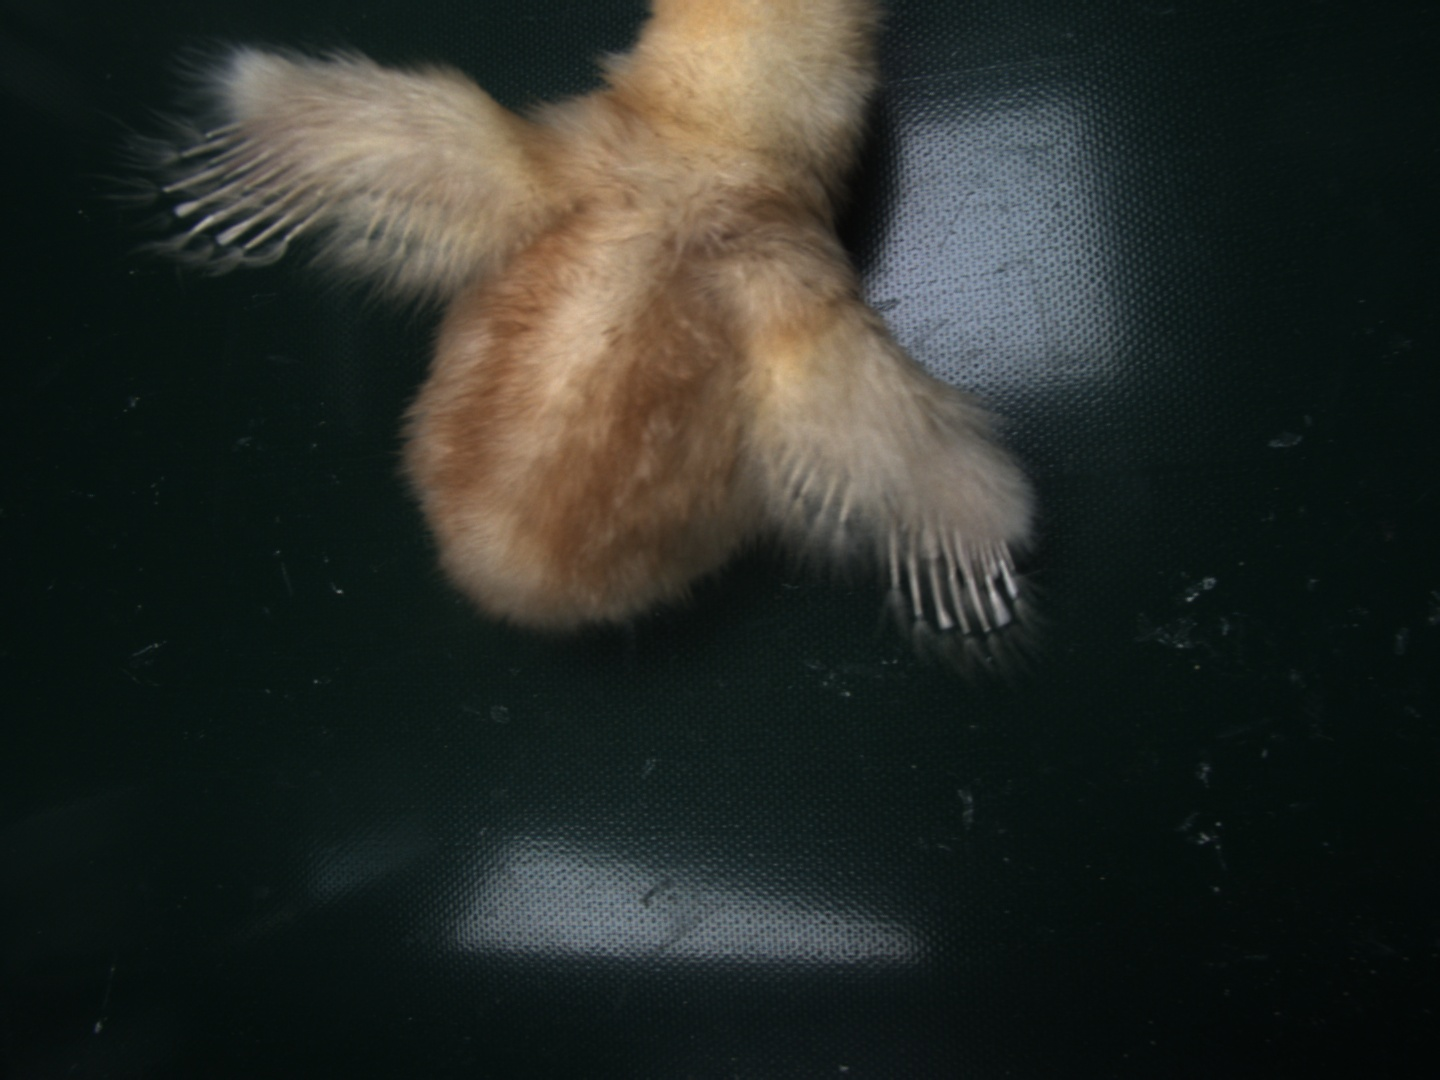female: (160, 119, 322, 252), (887, 516, 1020, 634)
